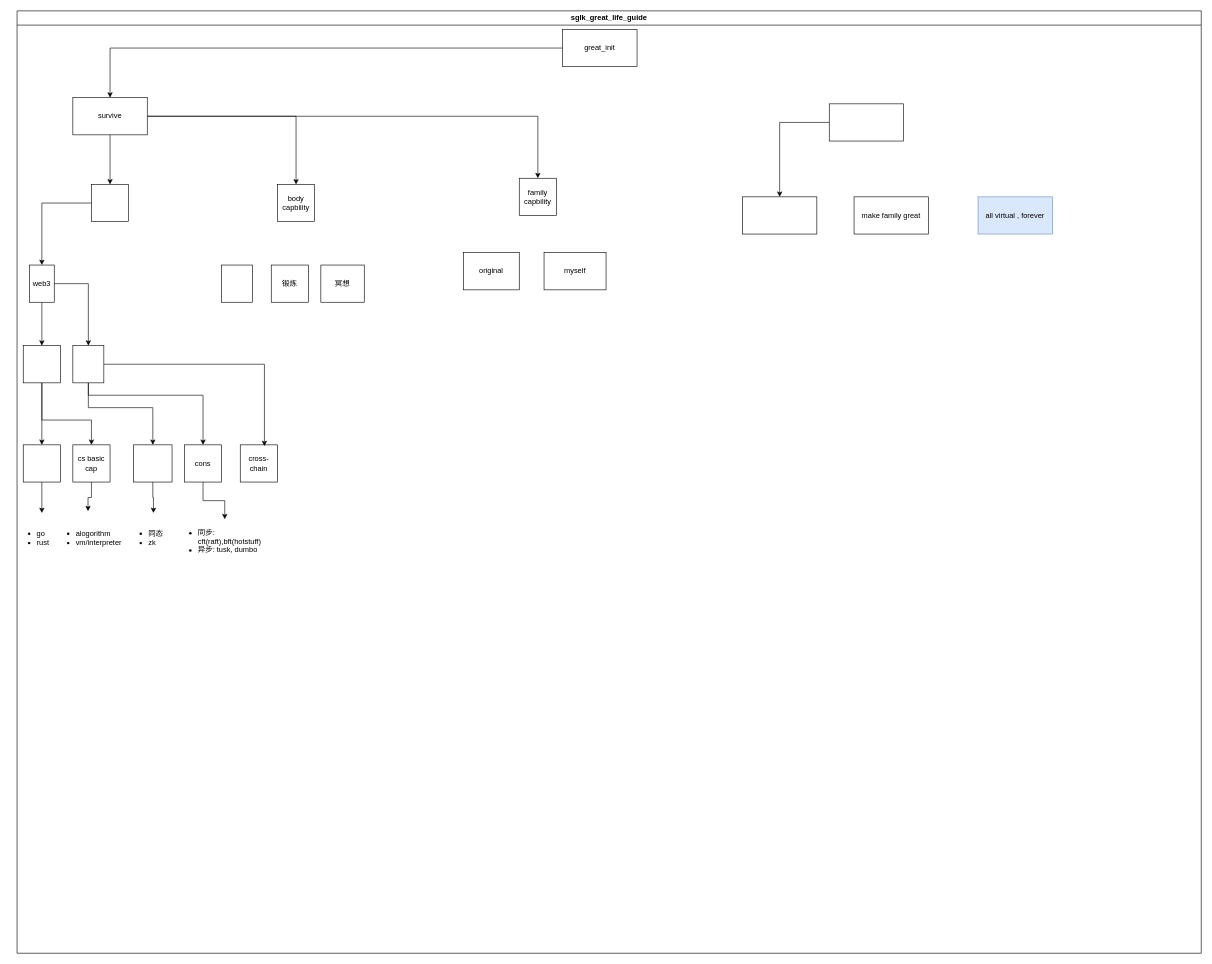
Image size: 1212x964. Some labels were removed from this diagram. Here are the shapes that lost their labels. From the top down, the centre of each, then its label:
the point at 866,122: dream
the point at 110,203: tech capbility
the point at 779,215: make me great
the point at 237,283: 饮食
the point at 41,364: basic
the point at 88,364: strengthen
the point at 41,463: language
the point at 152,463: cryto
